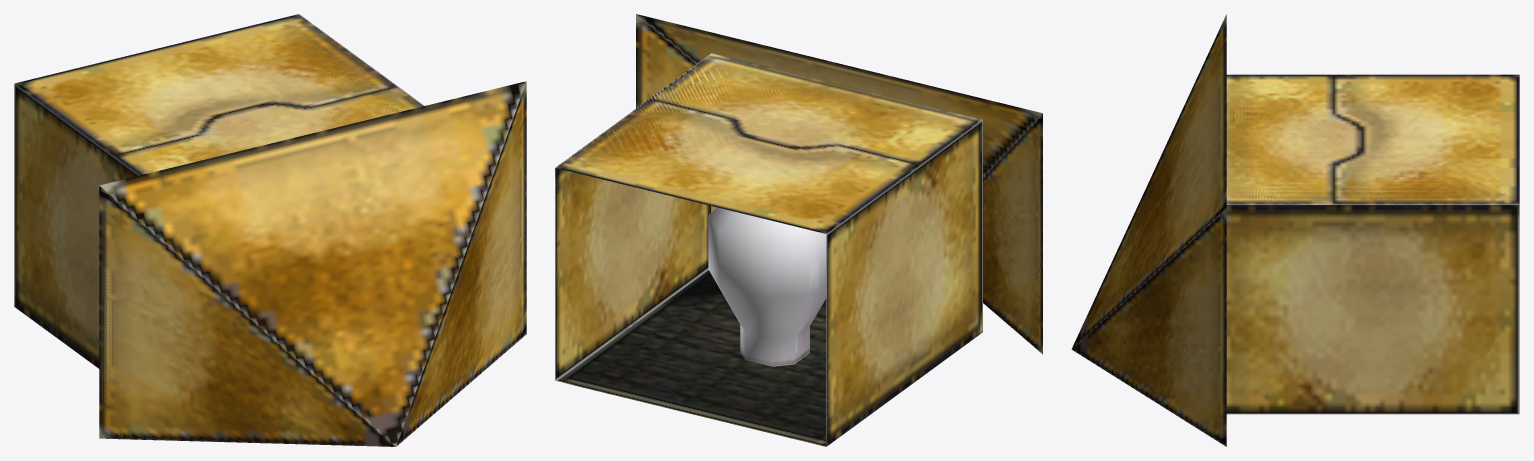
File: wall_sconce_var1.fbx
The picture shows the model from 3 angles, left to right: view 1: azimuth 30°, elevation 25°; view 2: azimuth 150°, elevation 25°; view 3: azimuth 270°, elevation 25°; orthographic projection. The views are drawn at different scales.
Visible parts, largest first — view 1: mesh_1; view 2: mesh_1, mesh_0; view 3: mesh_1.
Boxes of the visible parts, x1,y1,x2,y2 form: mesh_1: (14, 14, 526, 446); mesh_1: (555, 14, 1042, 446); mesh_0: (708, 207, 826, 366); mesh_1: (1071, 14, 1519, 446).
Bounding box in the file's own units: 30 × 17 × 29.07.
2 materials, 2 textured.
